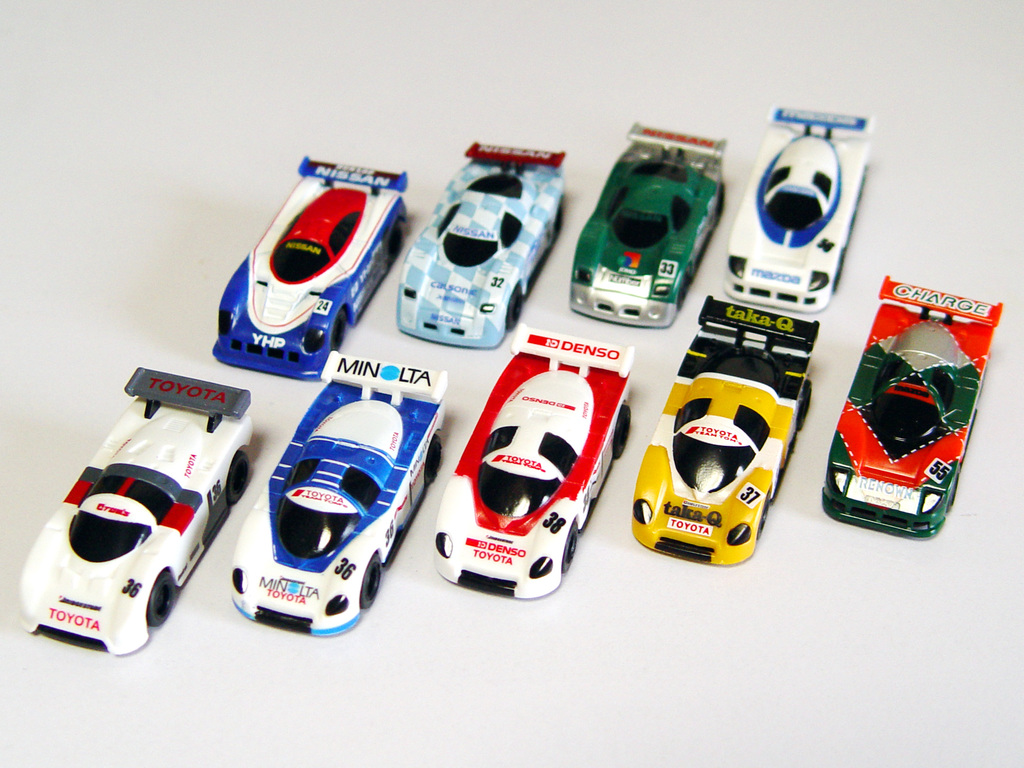mobil: (13, 359, 265, 672), (241, 360, 447, 663), (830, 280, 997, 604), (642, 301, 821, 589), (444, 339, 634, 606), (223, 145, 412, 379), (403, 140, 554, 349), (716, 89, 856, 313), (574, 115, 705, 317)
